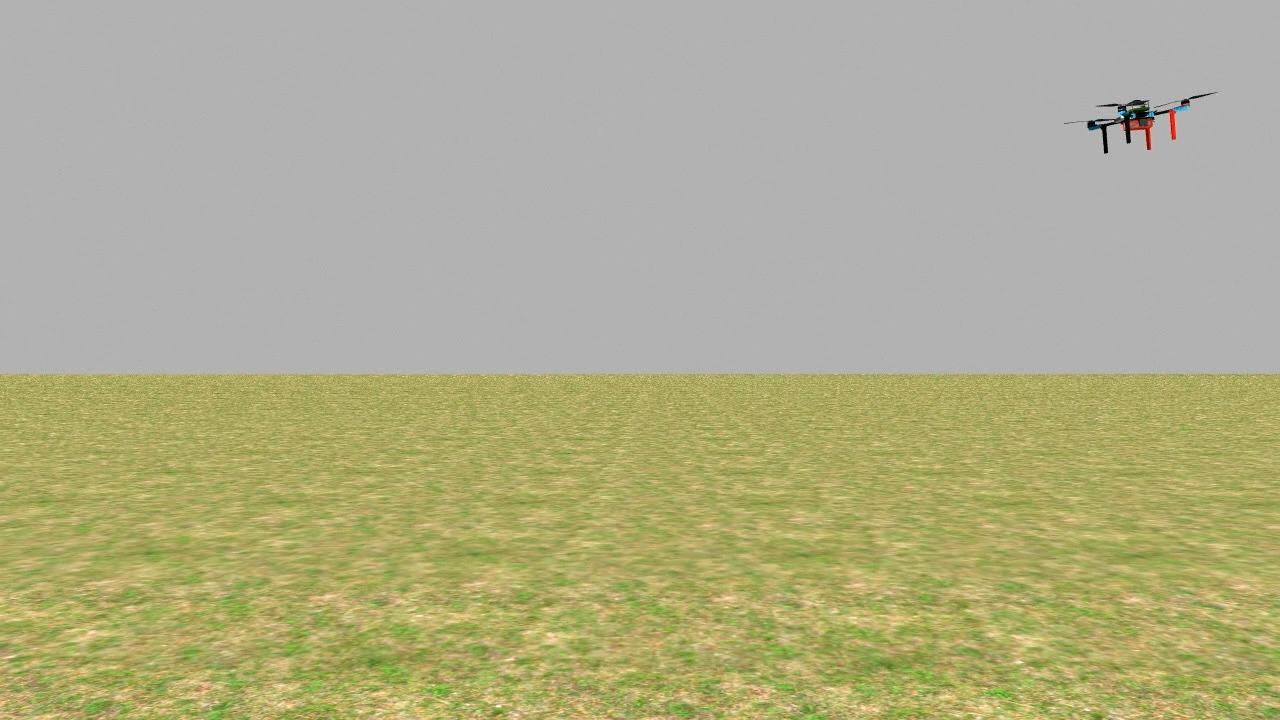UAV: (1063, 77, 1210, 168)
